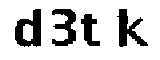3: (48, 7, 77, 50)
d: (9, 8, 46, 52)
k: (113, 6, 151, 56)
t: (79, 13, 104, 50)
